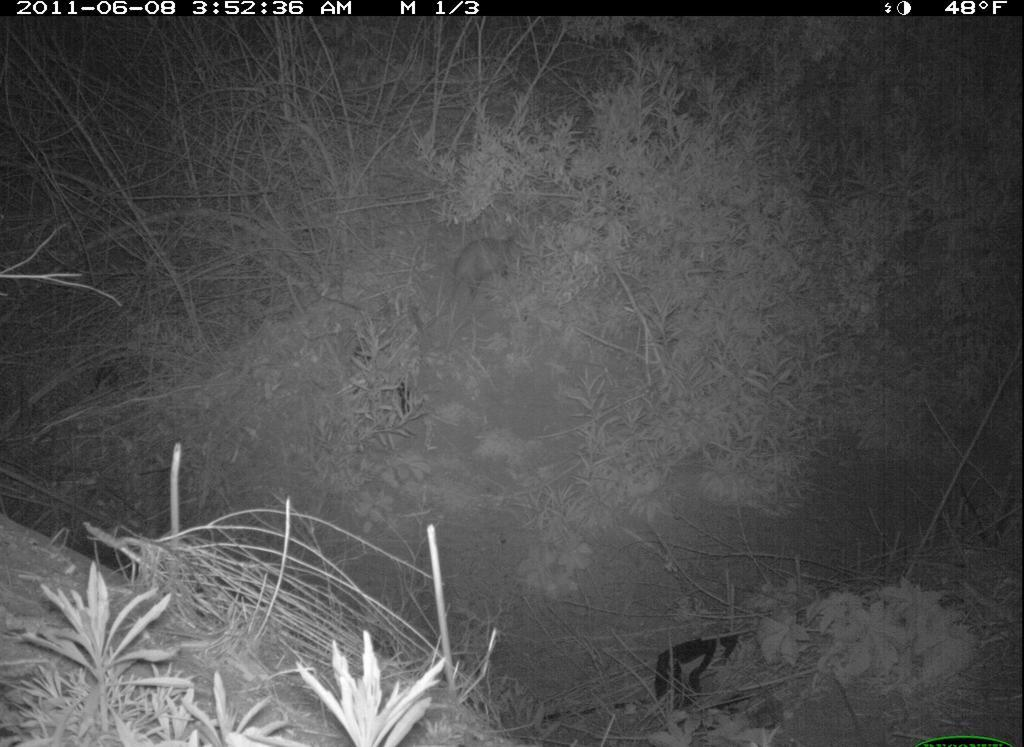opossum: (417, 214, 543, 328)
